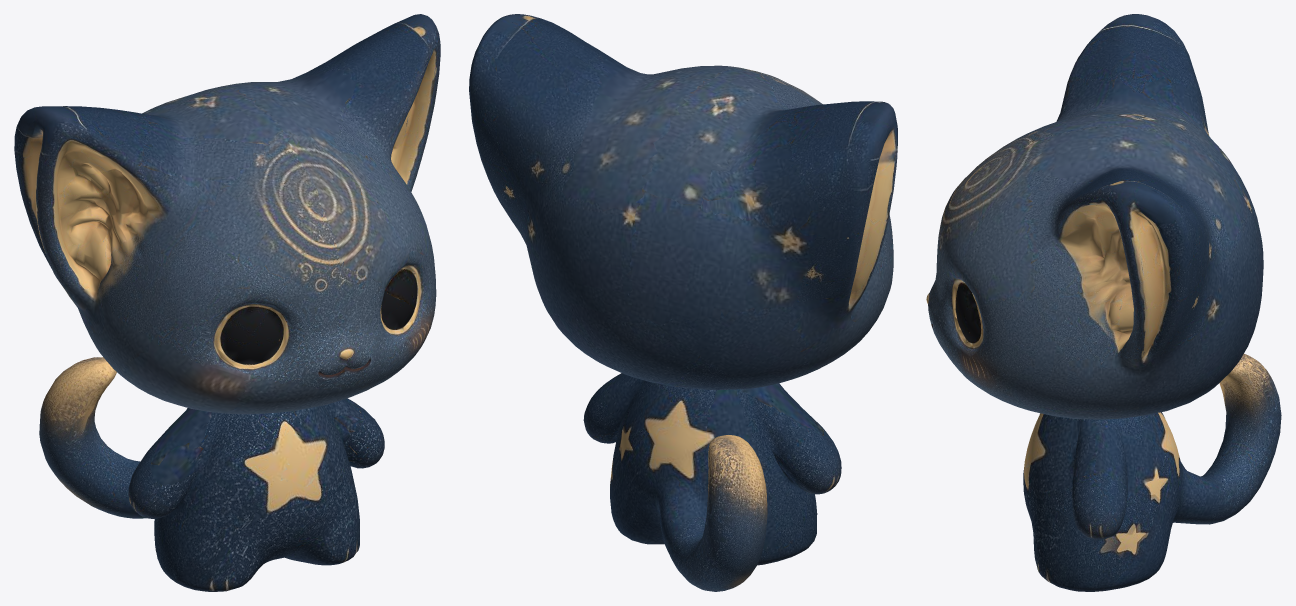
File: sternschnuppe.glb
3 renders of one model, left to right at view 1: azimuth 30°, elevation 25°; view 2: azimuth 150°, elevation 25°; view 3: azimuth 270°, elevation 25°, orthographic. The views are drawn at different scales.
Bounding box in the file's own units: 0.8624 × 1 × 0.7066.
Materials: 1 (1 with a texture image).
